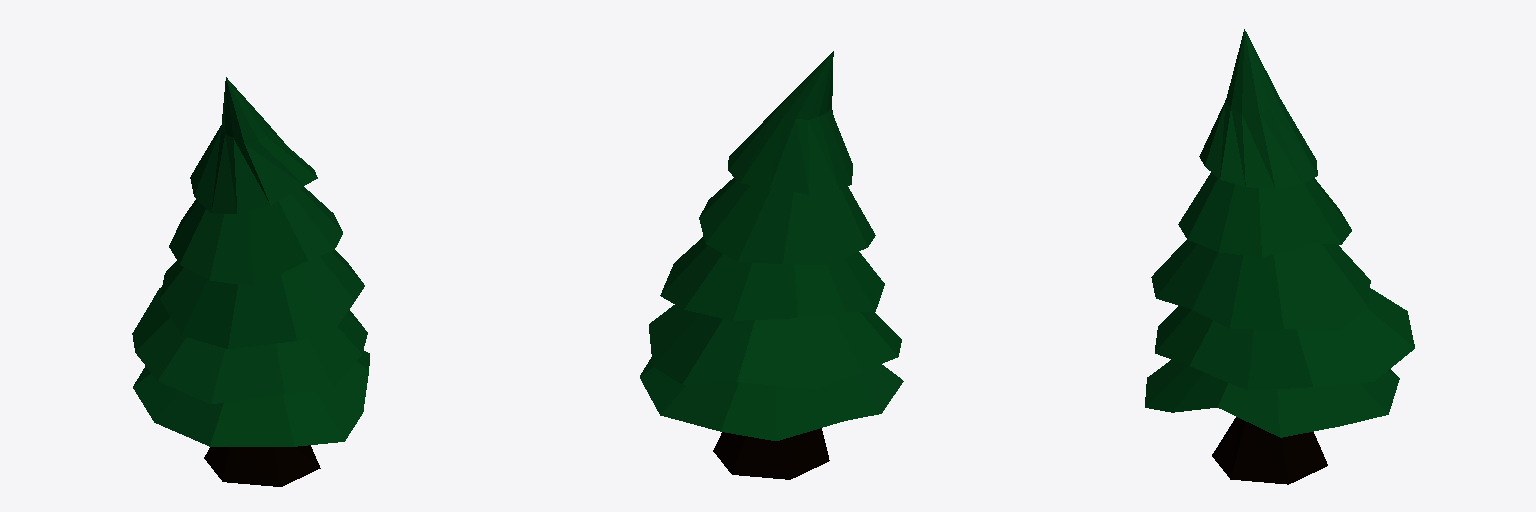
Rendered from tree_pine_a.obj.
The picture shows the model from 3 angles: view 1: azimuth 30°, elevation 25°; view 2: azimuth 150°, elevation 25°; view 3: azimuth 270°, elevation 25°; orthographic projection.
Parts seen in each view (by area): view 1: spruce.001; view 2: spruce.001; view 3: spruce.001.
Boxes of the visible parts, box(x1,y1,x2,y2) form: spruce.001: box(132, 77, 369, 486); spruce.001: box(640, 51, 903, 479); spruce.001: box(1145, 29, 1414, 484).
Size of the model in its own units: 3.39 by 5.78 by 3.47.